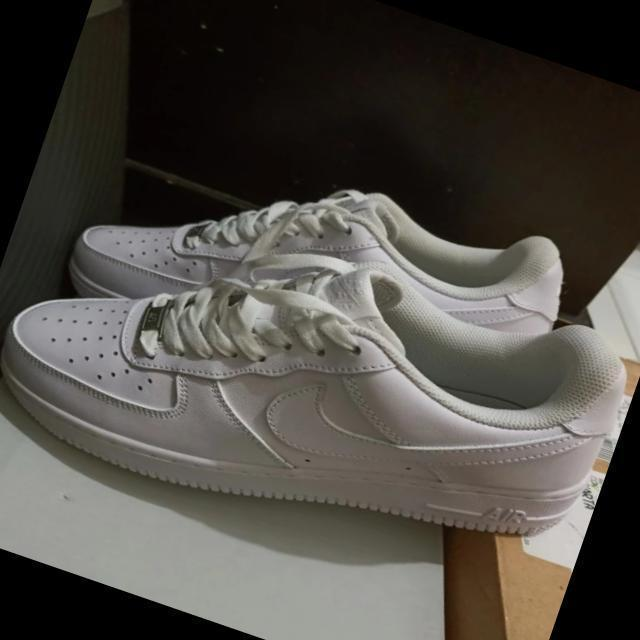nike original air force: (0, 147, 634, 614), (3, 74, 589, 437)
